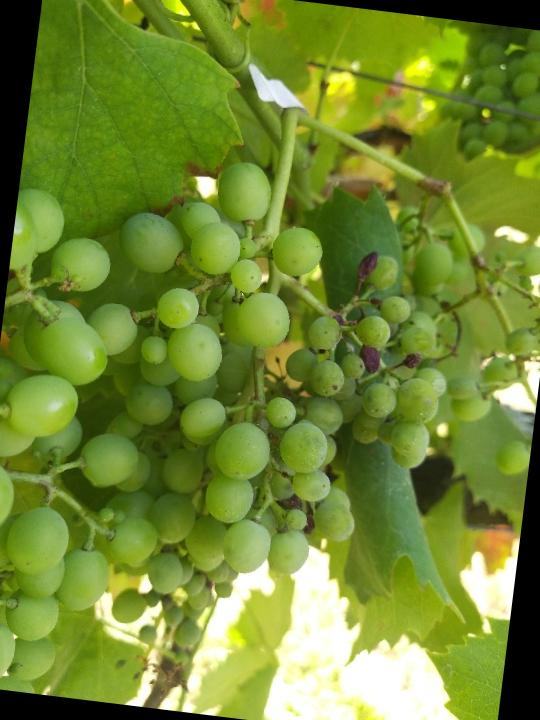grape: (55, 142, 479, 639)
